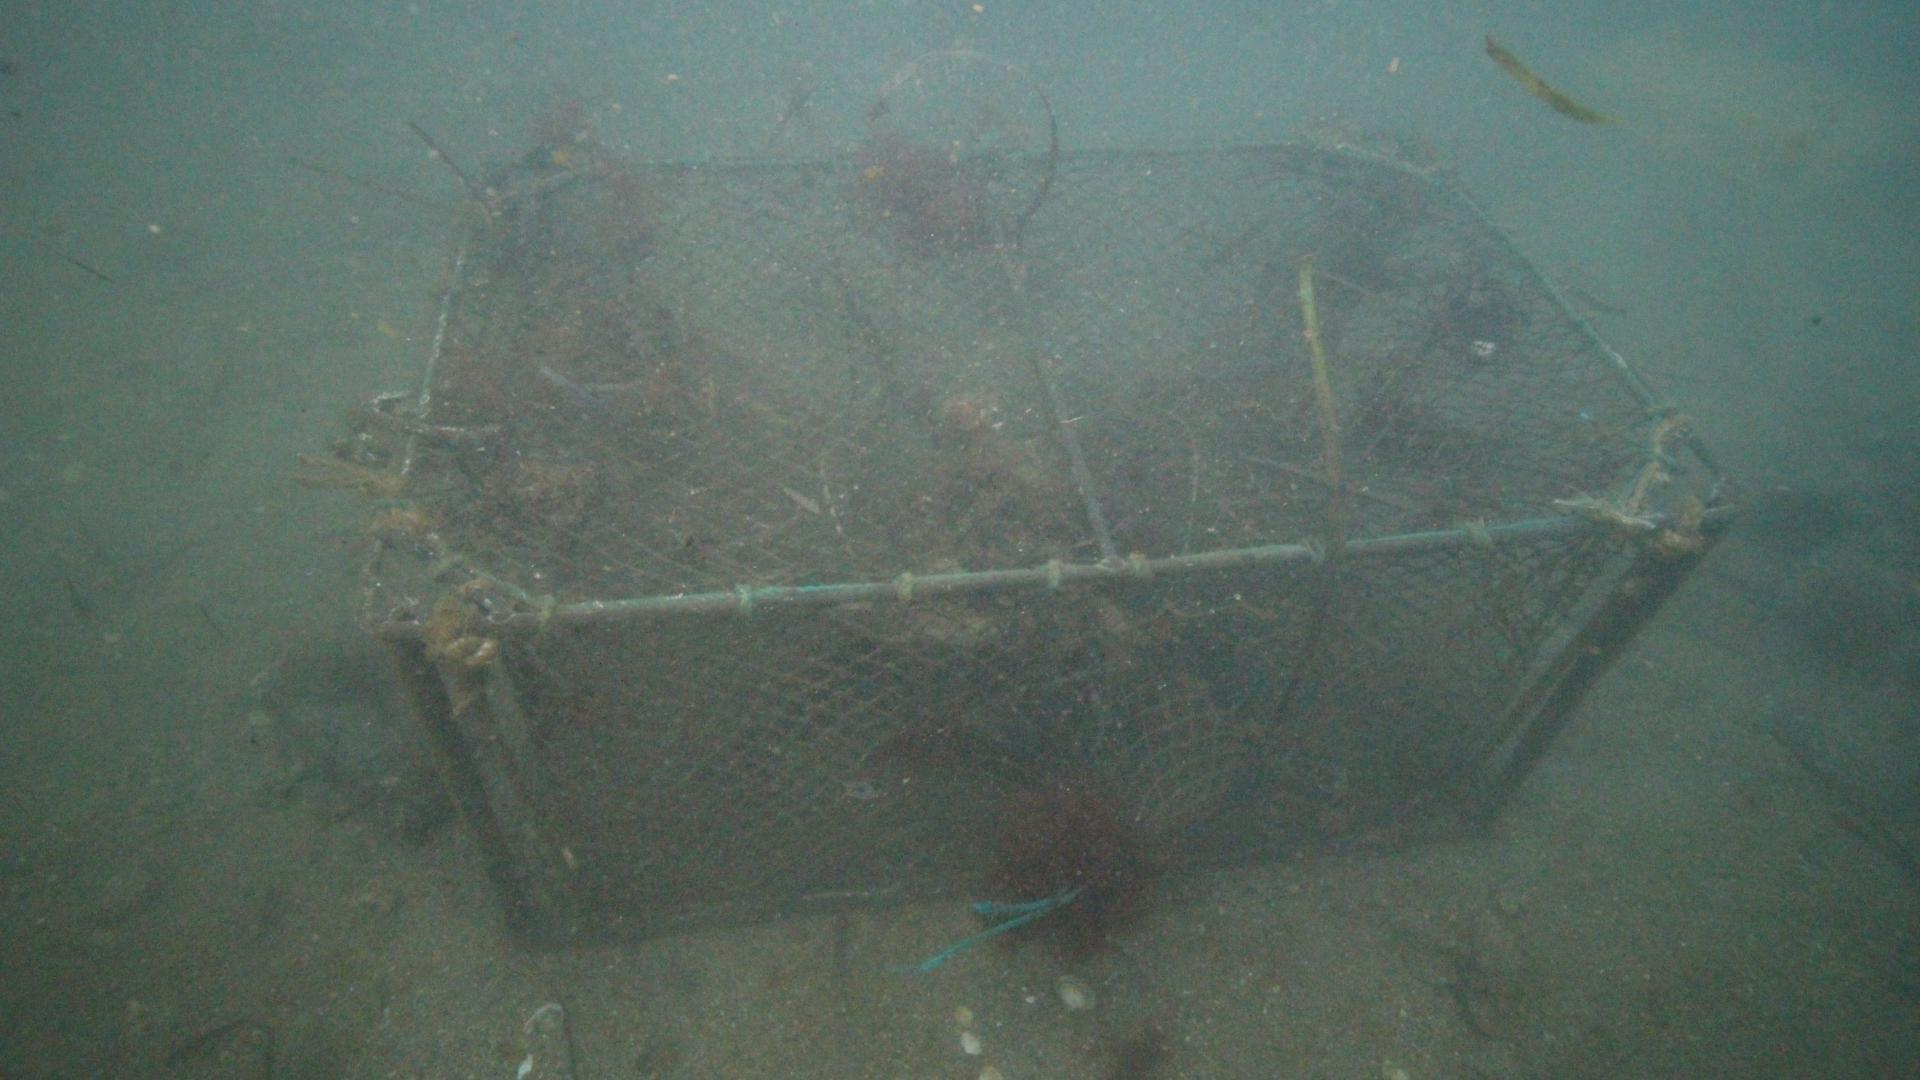rectangular fish trap: (364, 127, 1745, 940)
